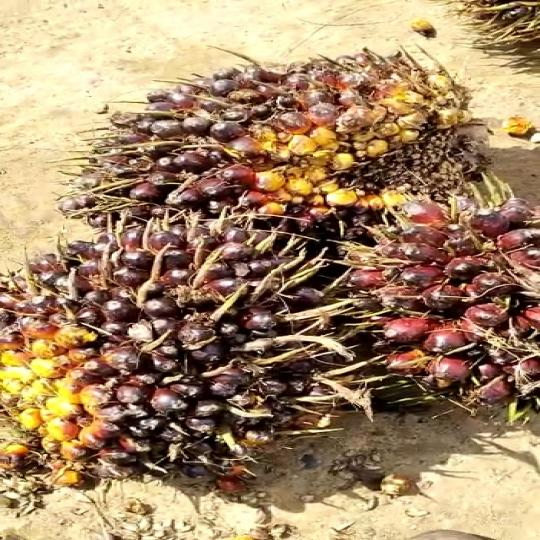kurang masak: (69, 36, 496, 230), (313, 200, 540, 440), (346, 520, 348, 522)
